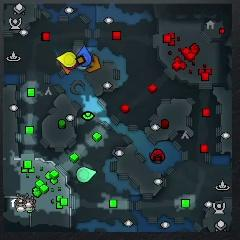p1: (76, 45, 91, 66)
p2: (77, 167, 96, 182)
p3: (66, 63, 78, 70)
p4: (56, 51, 76, 67)
p5: (60, 62, 72, 74)
x5: (85, 54, 101, 73)
